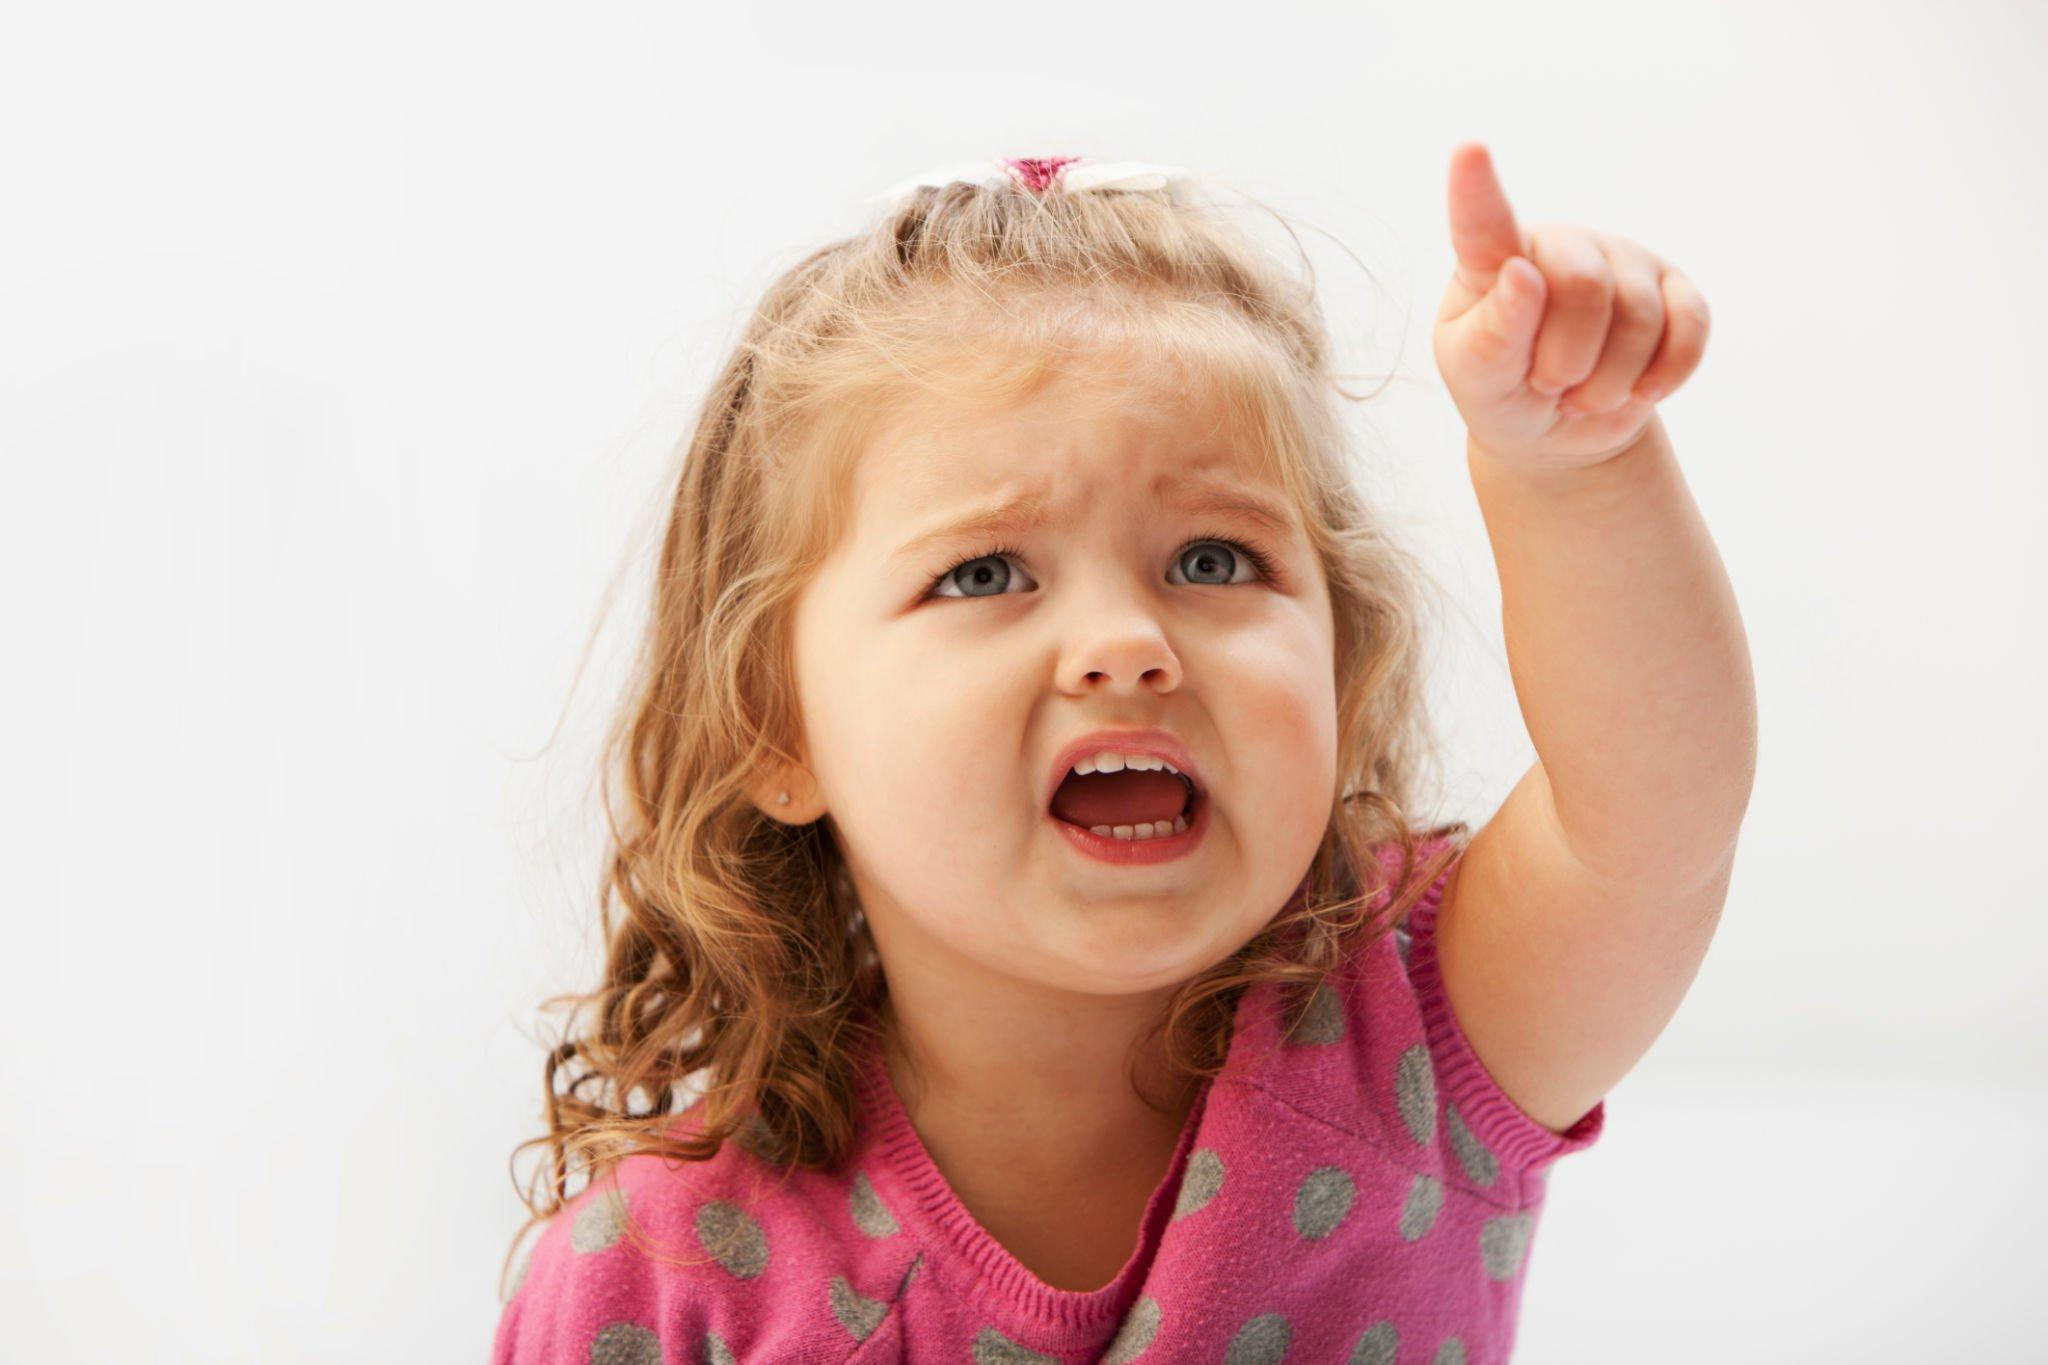Healthy: (713, 282, 1413, 996)
